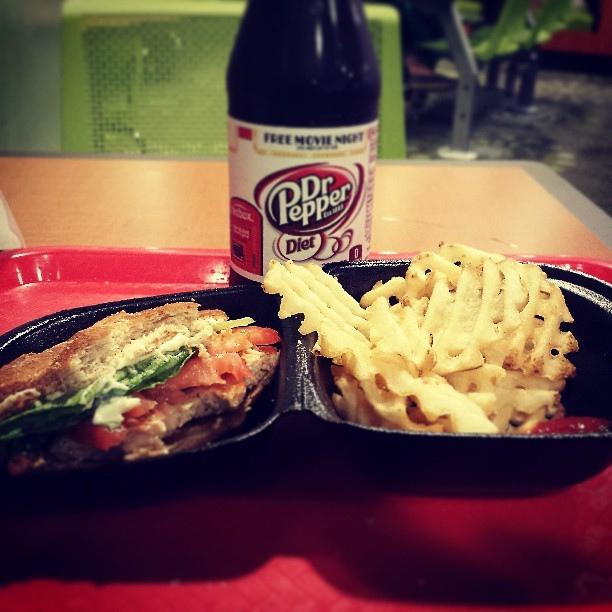lettuce: (0, 346, 198, 441)
tomato: (70, 400, 159, 451), (167, 353, 253, 390), (206, 326, 281, 357)
